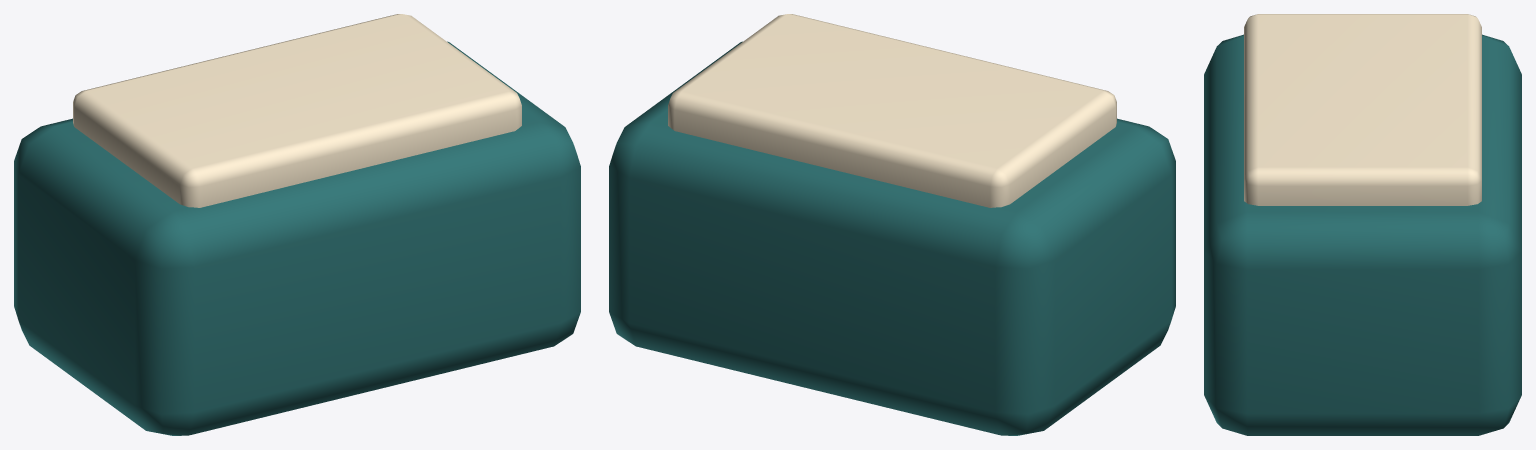
The model's file is A22_Counterweight.fbx.
3 views of the same model, side by side, from view 1: azimuth 30°, elevation 25°; view 2: azimuth 150°, elevation 25°; view 3: azimuth 270°, elevation 25° (orthographic).
Visible parts, largest first — view 1: Petrol body, Cream mounting pad; view 2: Petrol body, Cream mounting pad; view 3: Petrol body, Cream mounting pad.
Part boxes in pixels (bbox=[...]): Petrol body: bbox=[14, 41, 580, 435]; Cream mounting pad: bbox=[73, 14, 521, 207]; Petrol body: bbox=[609, 41, 1175, 435]; Cream mounting pad: bbox=[668, 14, 1116, 207]; Petrol body: bbox=[1204, 34, 1521, 435]; Cream mounting pad: bbox=[1244, 14, 1481, 205].
Size of the model in its own units: 0.07 by 0.039 by 0.044.
